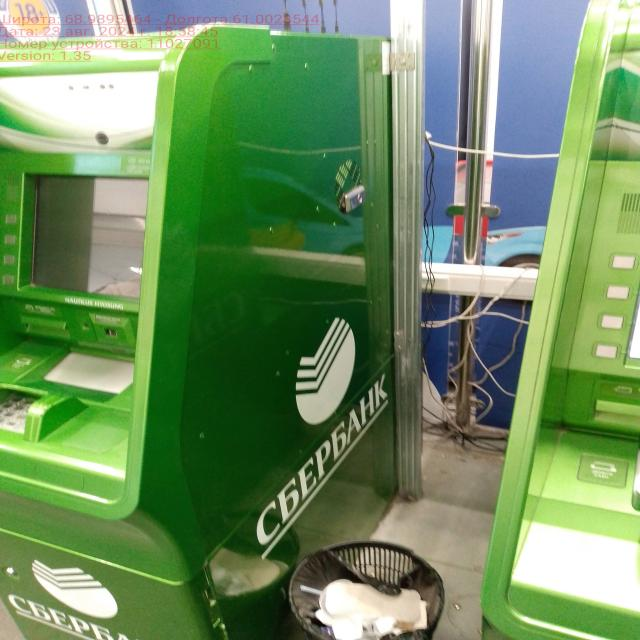bank: (0, 21, 434, 640), (490, 0, 640, 640)
